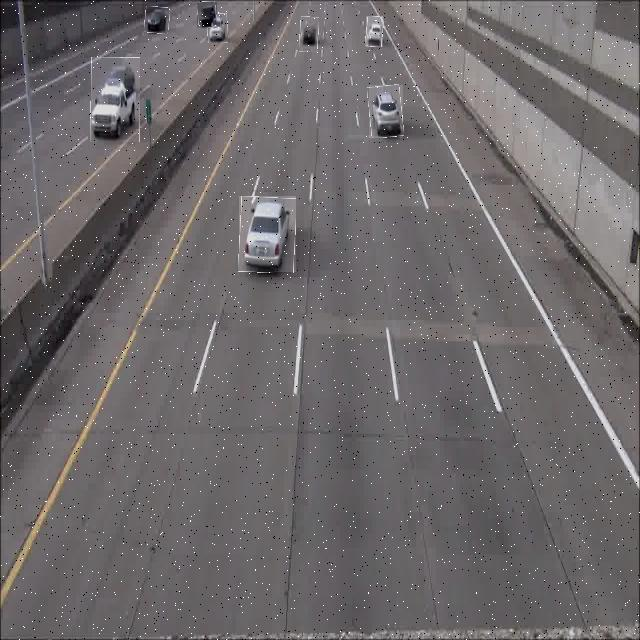Car: (239, 196, 296, 272), (369, 85, 403, 138), (145, 7, 169, 34), (300, 17, 318, 52), (208, 14, 228, 43), (366, 16, 383, 47), (197, 2, 217, 28)
Truck: (91, 57, 140, 142)
